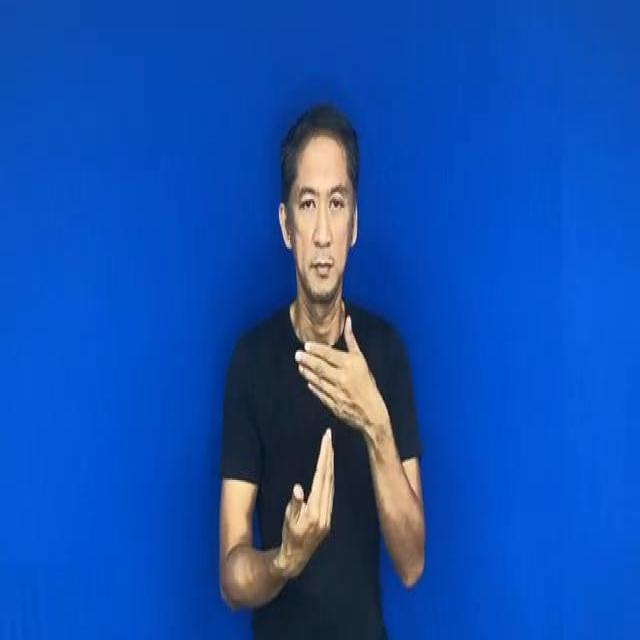bread: (269, 295, 386, 571)
